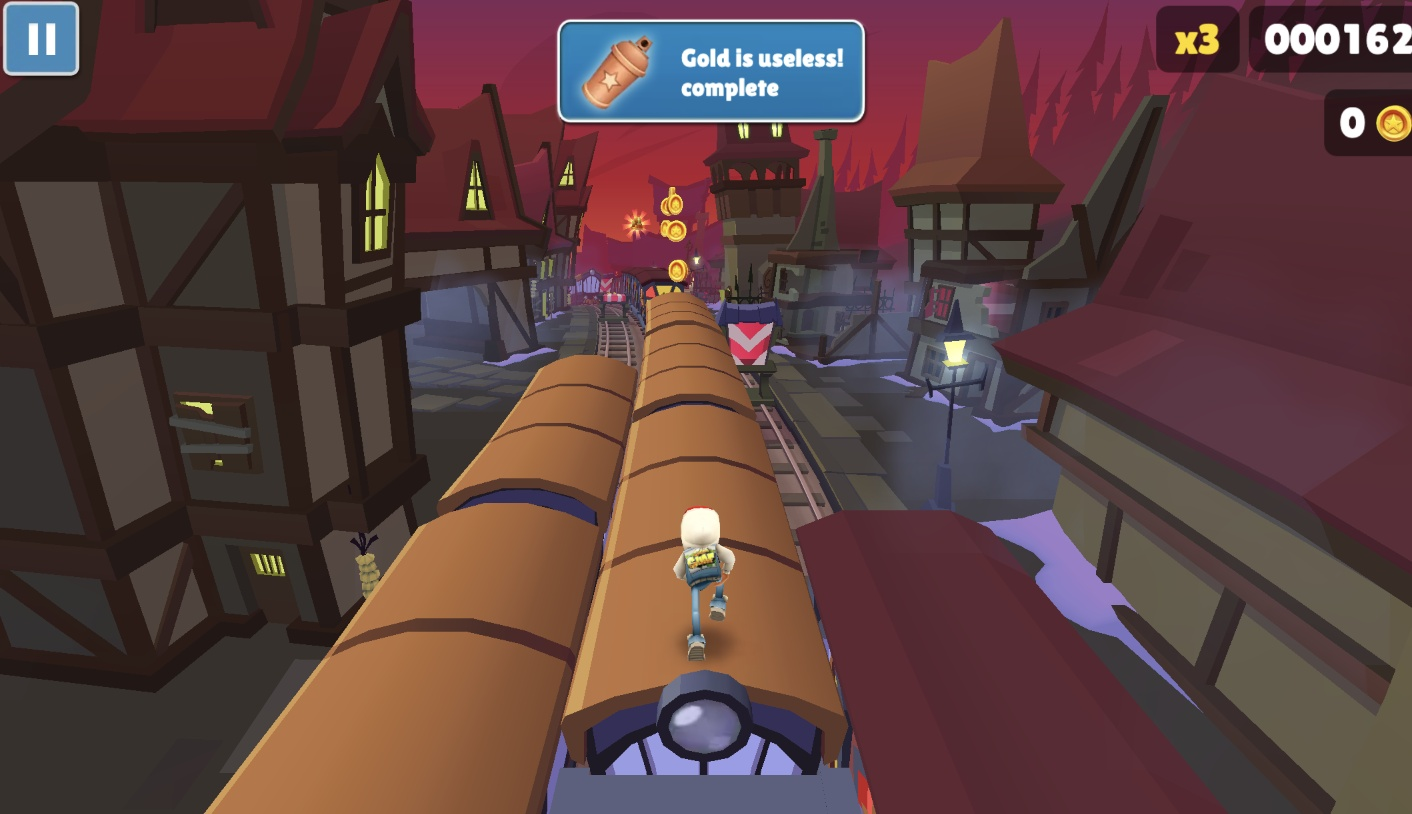ground_barrier: (600, 293, 629, 318)
overhead_barrier: (719, 300, 791, 390)
train: (203, 355, 636, 814), (546, 293, 858, 814), (792, 508, 1229, 814), (617, 267, 683, 316), (575, 271, 608, 308)
